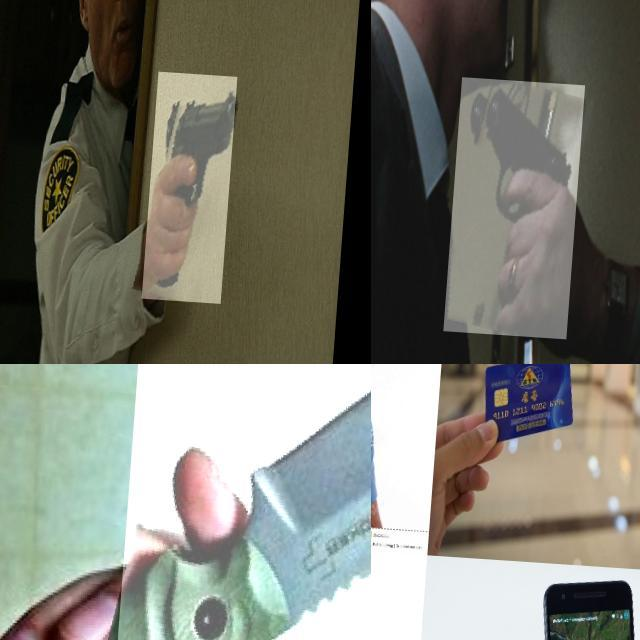-: (117, 364, 371, 640)
gun-knife-thesis - v11 Yolov5 augmented: (452, 74, 590, 334), (150, 66, 242, 297)
